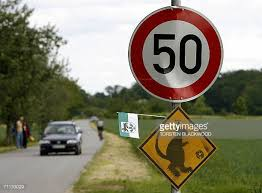Speed_limit_50km: (127, 5, 223, 103)
